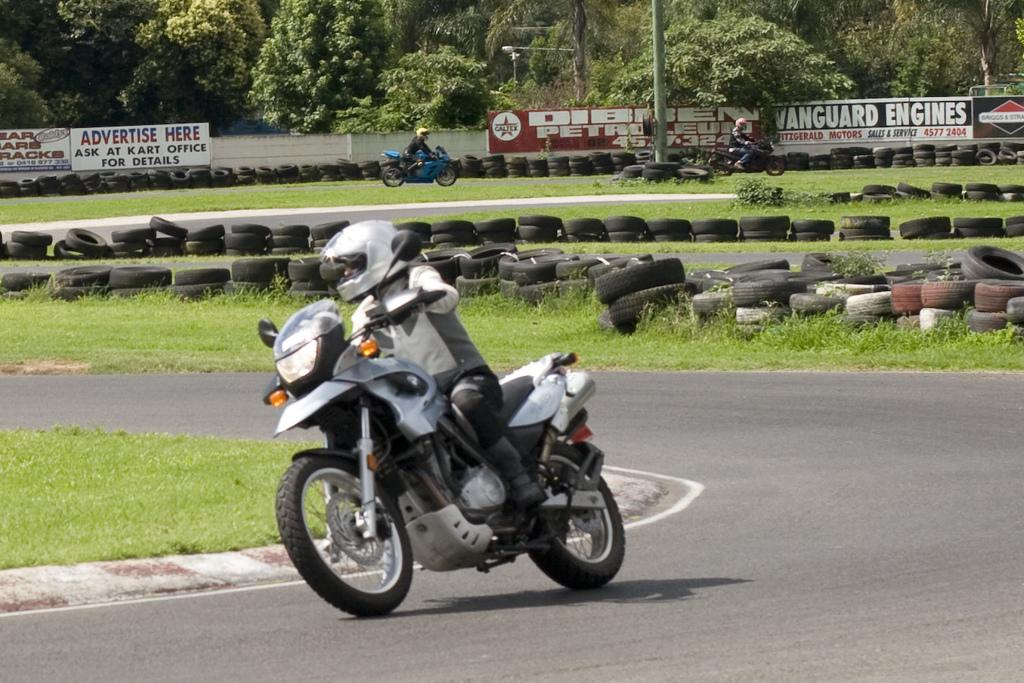helmet: (318, 219, 410, 305), (273, 299, 346, 401), (415, 127, 431, 141), (735, 117, 748, 131)
